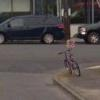Bicycle: (54, 41, 82, 78)
